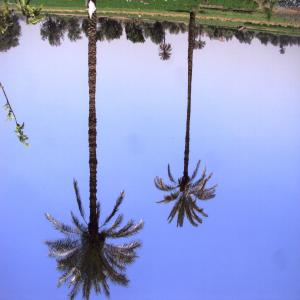palm tree: (153, 0, 218, 228)
